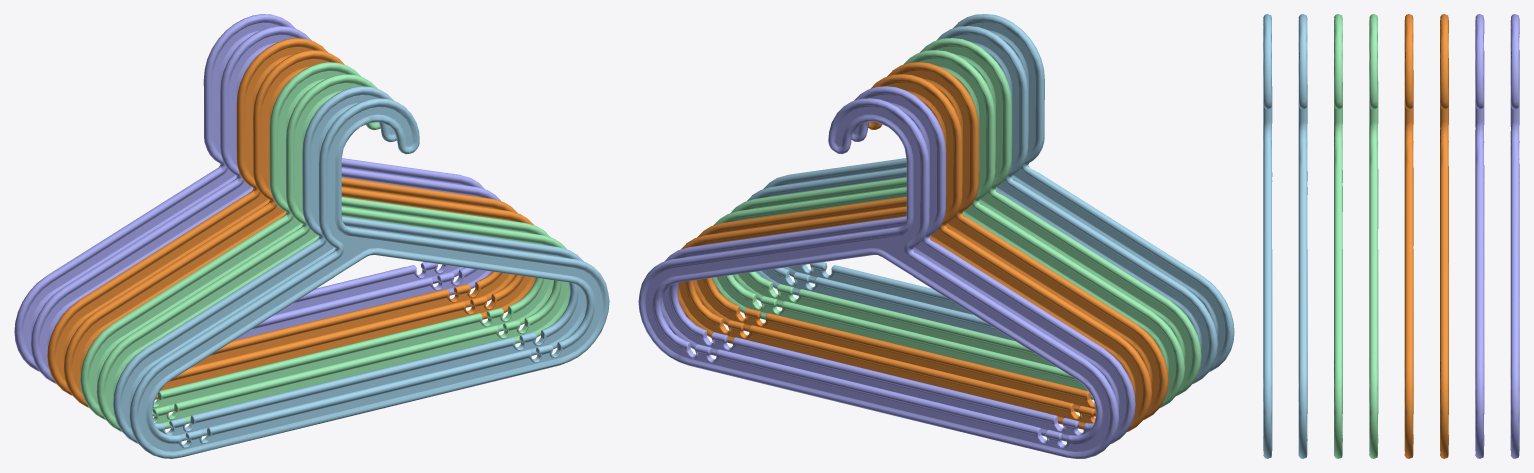
Rendered from bagis_wieszak_dzieciecy_60591014.glb.
3 renders of one model, left to right at view 1: azimuth 30°, elevation 25°; view 2: azimuth 150°, elevation 25°; view 3: azimuth 270°, elevation 25°, orthographic. The views are drawn at different scales.
Visible parts, largest first — view 1: bagis_wieszak_dzieciecy_60591014; view 2: bagis_wieszak_dzieciecy_60591014; view 3: bagis_wieszak_dzieciecy_60591014.
Part boxes in pixels (x1=…): bagis_wieszak_dzieciecy_60591014: x1=14, y1=14, x2=609, y2=458; bagis_wieszak_dzieciecy_60591014: x1=638, y1=14, x2=1234, y2=458; bagis_wieszak_dzieciecy_60591014: x1=1263, y1=14, x2=1519, y2=458.
Bounding box in the file's own units: 0.336 × 0.2089 × 0.1451.
8 materials, 8 textured.
